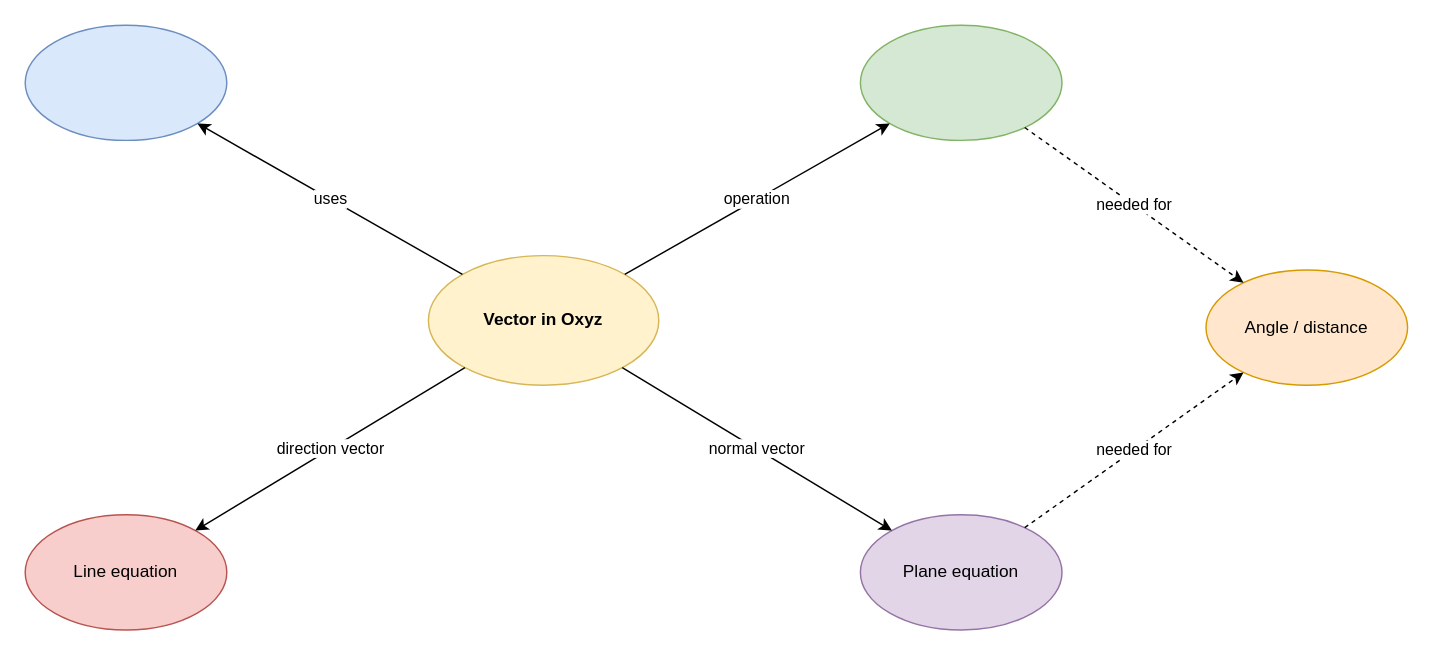
Image size: 1433x655. Some labels were removed from this diagram. The shapes that lost their labels are listed below. From the top down, each one's centre as x and y in pixels, then its label:
At [125,82]: "Coordinates".
At [960,82]: "Dot product".
